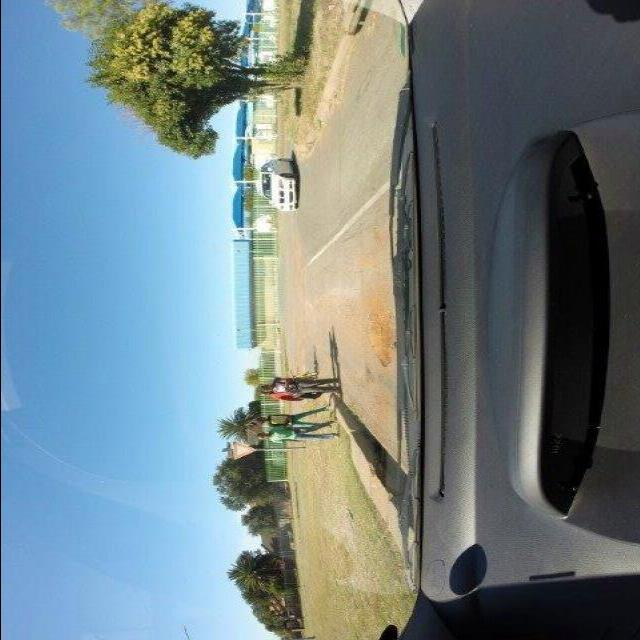lubang: (367, 295, 392, 371)
